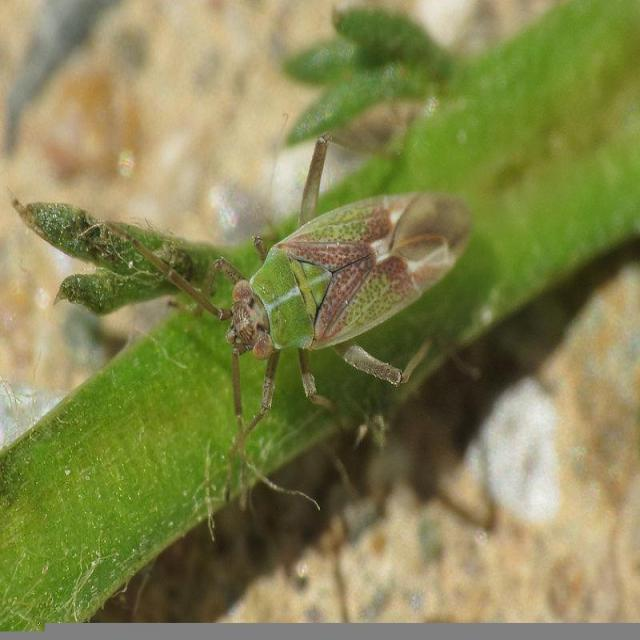Miridae-Adult-: (78, 123, 491, 468)
